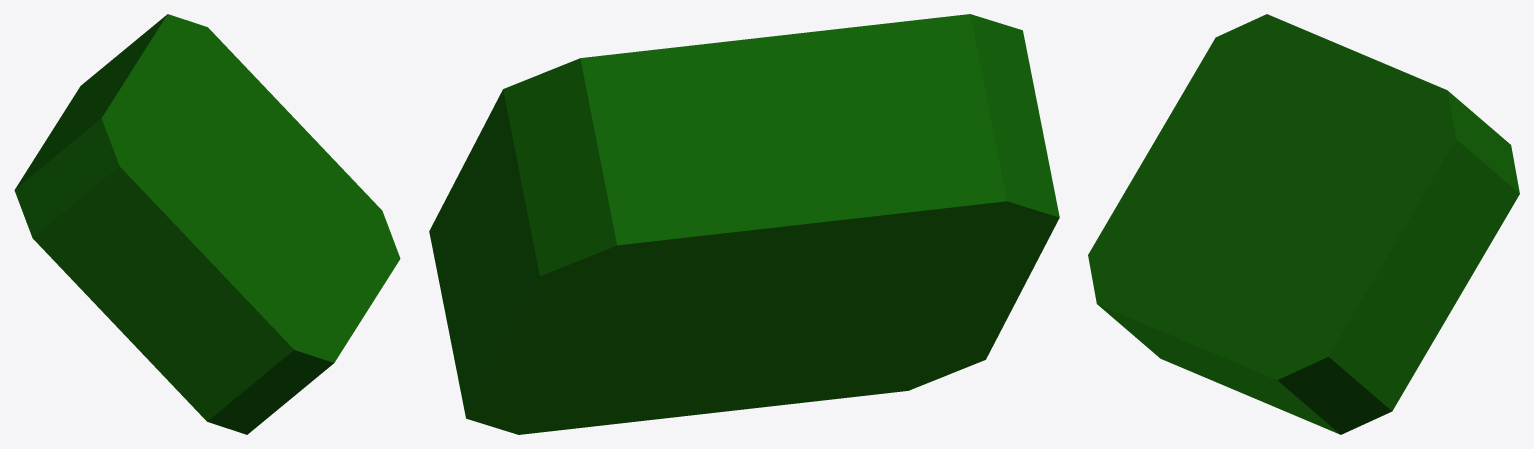
File: ammopack.fbx
3 renders of one model, left to right at view 1: azimuth 30°, elevation 25°; view 2: azimuth 150°, elevation 25°; view 3: azimuth 270°, elevation 25°, orthographic. The views are drawn at different scales.
Visible parts, largest first — view 1: Plane; view 2: Plane; view 3: Plane.
Boxes of the visible parts, x1=… form: Plane: x1=14, y1=14, x2=400, y2=434; Plane: x1=429, y1=14, x2=1059, y2=434; Plane: x1=1088, y1=14, x2=1519, y2=434.
Size of the model in its own units: 254 by 194 by 254.
